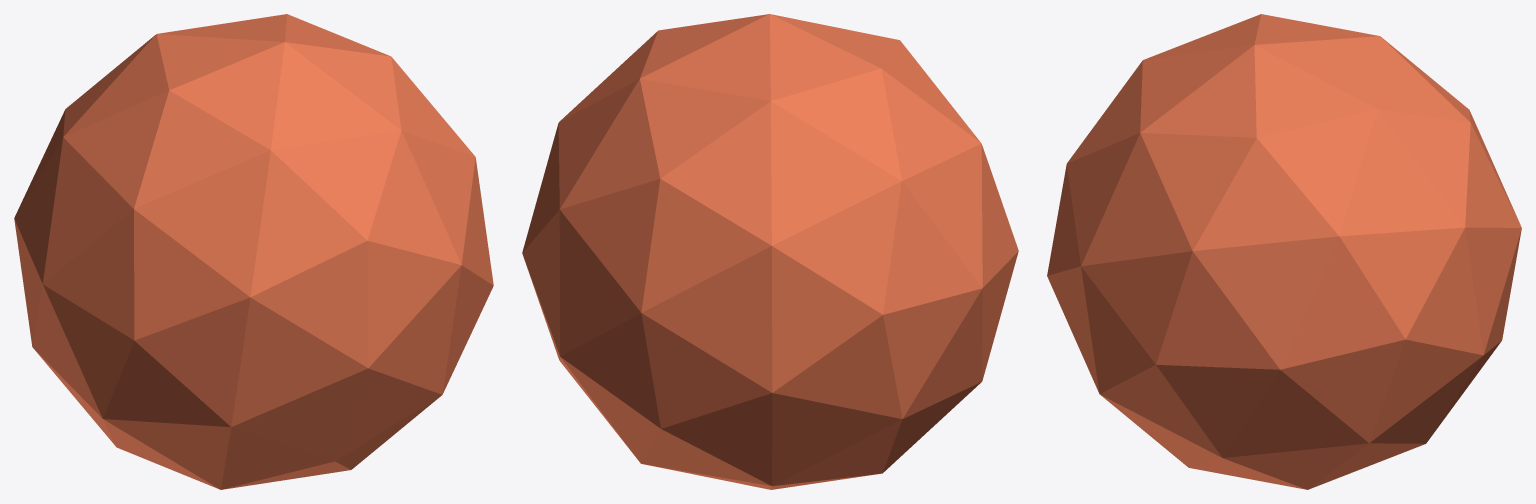
File: HTMLBall.glb
3 renders of one model, left to right at view 1: azimuth 30°, elevation 25°; view 2: azimuth 150°, elevation 25°; view 3: azimuth 270°, elevation 25°, orthographic. The views are drawn at different scales.
Visible parts, largest first — view 1: Icosphere, Icosphere.001; view 2: Icosphere, Icosphere.001; view 3: Icosphere.001, Icosphere.
Boxes of the visible parts, box(x1,y1,x2,y2) form: Icosphere: box(14, 90, 493, 489); Icosphere.001: box(63, 14, 475, 156); Icosphere: box(522, 40, 1018, 489); Icosphere.001: box(522, 14, 901, 356); Icosphere.001: box(1140, 14, 1521, 369); Icosphere: box(1047, 60, 1521, 489).
Bounding box in the file's own units: 1.99 × 1.98 × 1.98.
